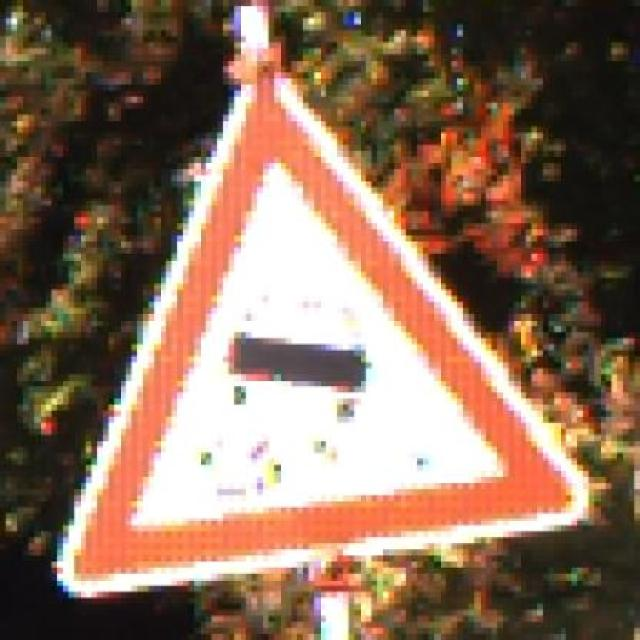Slippery Road Ahead: (57, 79, 594, 598)
